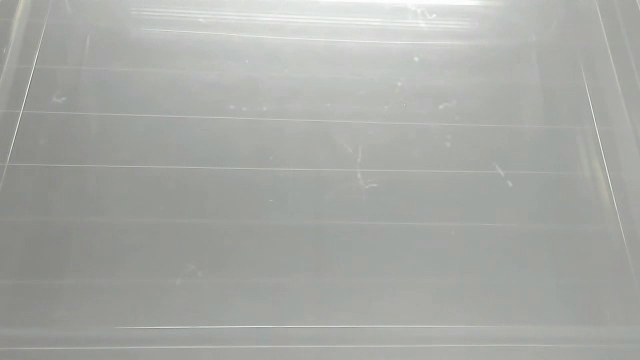alpha: (484, 153, 517, 192)
